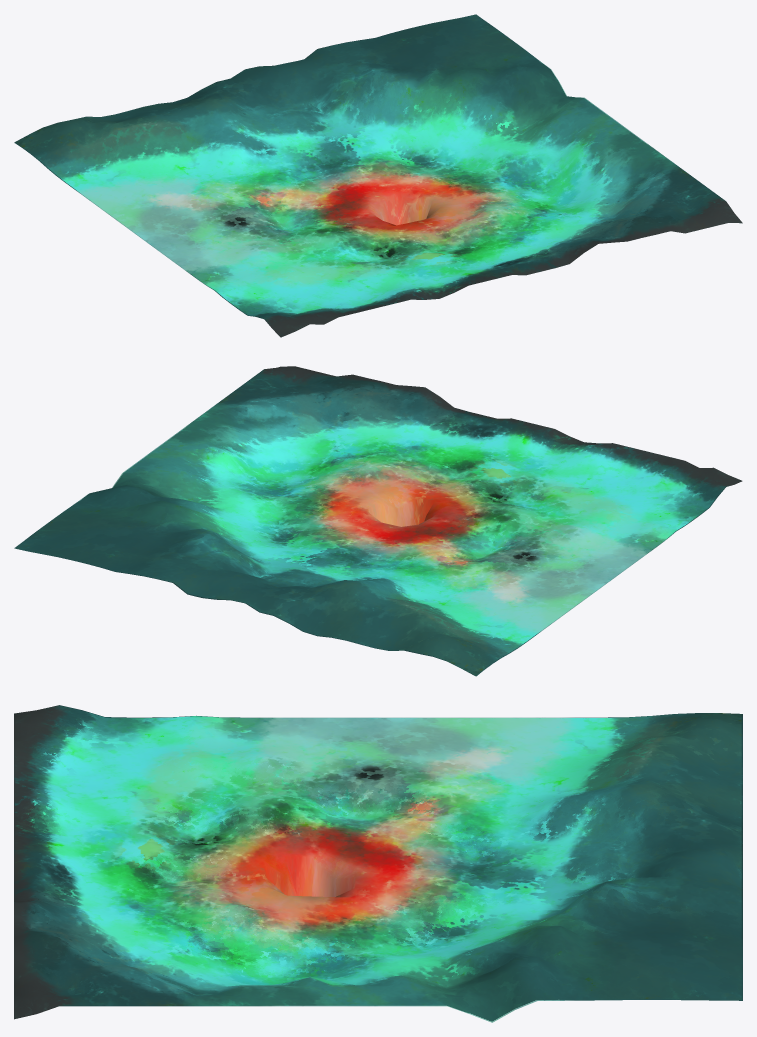
Rendered from Ground.fbx.
3 renders of one model, top to bottom at view 1: azimuth 30°, elevation 25°; view 2: azimuth 150°, elevation 25°; view 3: azimuth 270°, elevation 25°, orthographic. The views are drawn at different scales.
Visible parts, largest first — view 1: Plane; view 2: Plane; view 3: Plane.
Part boxes in pixels (left/top/right/bottom): Plane: left=14, top=14, right=742, bottom=337; Plane: left=14, top=366, right=742, bottom=676; Plane: left=14, top=705, right=742, bottom=1022.
Size of the model in its own units: 19259 by 4252 by 19259.
